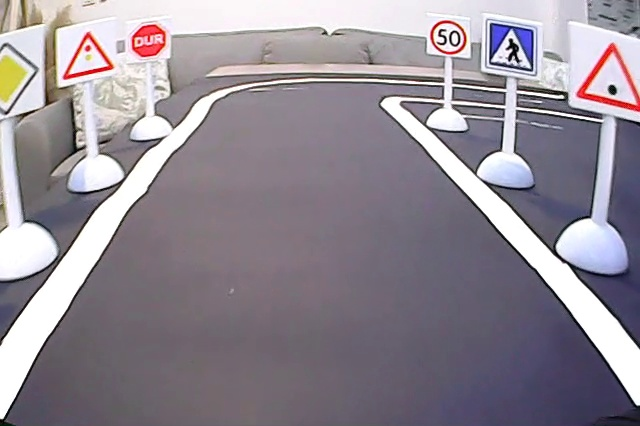green light: (571, 28, 640, 118)
pedestrian crossing: (484, 20, 537, 78)
red light: (56, 26, 116, 79)
speed limit 50: (430, 16, 469, 56)
stop sign: (129, 22, 170, 60)
